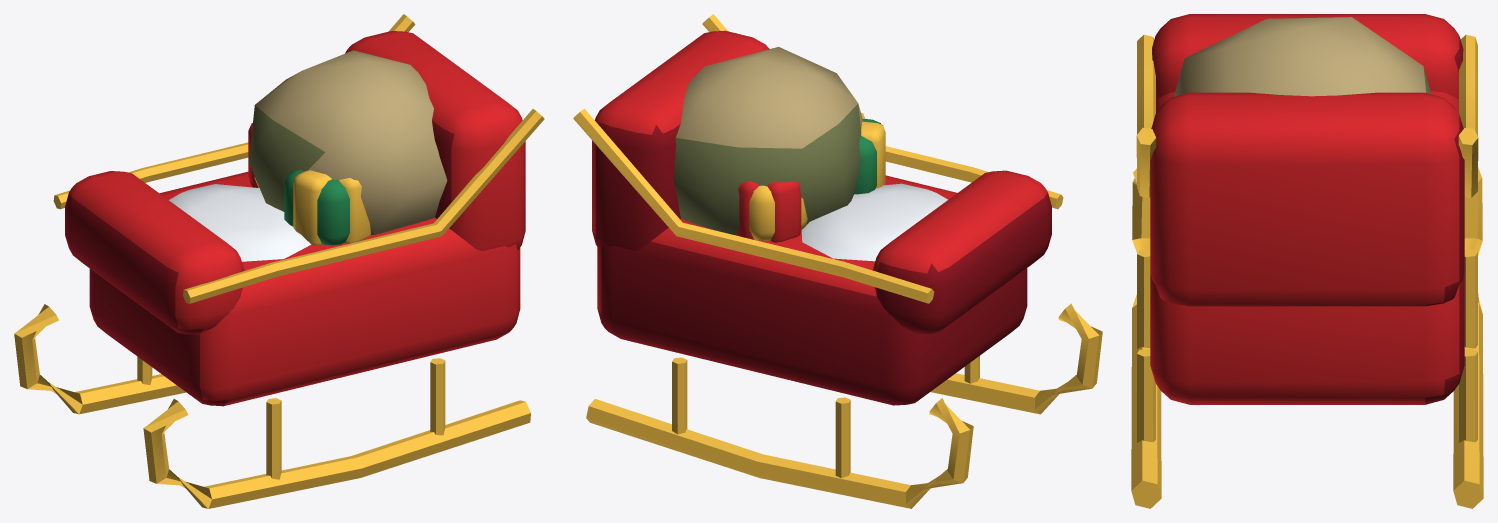
File: Sleigh.fbx
3 views of the same model, side by side, from view 1: azimuth 30°, elevation 25°; view 2: azimuth 150°, elevation 25°; view 3: azimuth 270°, elevation 25° (orthographic). The views are drawn at different scales.
Visible parts, largest first — view 1: Sleigh; view 2: Sleigh; view 3: Sleigh.
Part boxes in pixels (box(x1,y1,x2,y2)): Sleigh: box(14, 14, 544, 508); Sleigh: box(573, 14, 1102, 508); Sleigh: box(1131, 14, 1483, 508).
Size of the model in its own units: 1.46 by 1.23 by 0.8973.
1 material, 1 textured.
